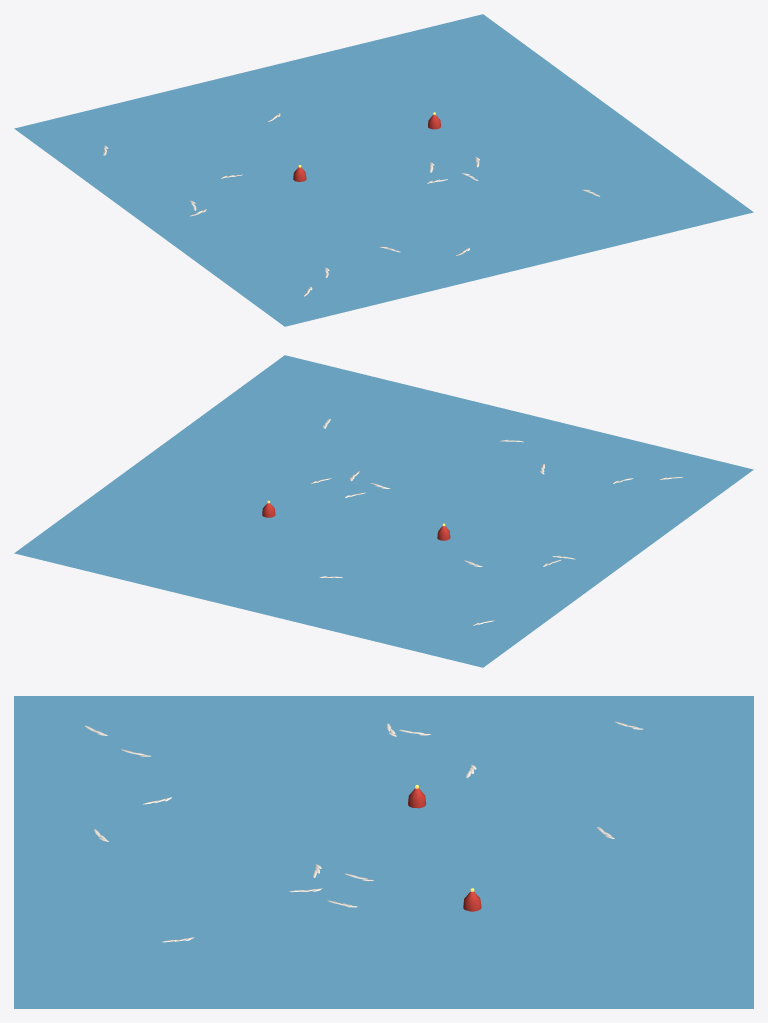
Rendered from land_sea.glb.
3 views of the same model, one above another, from view 1: azimuth 30°, elevation 25°; view 2: azimuth 150°, elevation 25°; view 3: azimuth 270°, elevation 25° (orthographic). The views are drawn at different scales.
Parts seen in each view (by area): view 1: land_sea; view 2: land_sea; view 3: land_sea.
Boxes of the visible parts, left/top/right/bottom form: land_sea: left=14, top=14, right=753, bottom=326; land_sea: left=14, top=355, right=753, bottom=667; land_sea: left=14, top=696, right=753, bottom=1008.
Size of the model in its own units: 40 by 1.15 by 40.
Materials: 1 (1 with a texture image).
